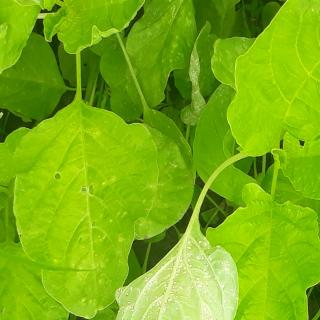karat_putih: (19, 116, 150, 319), (114, 226, 242, 320), (146, 0, 209, 125)
